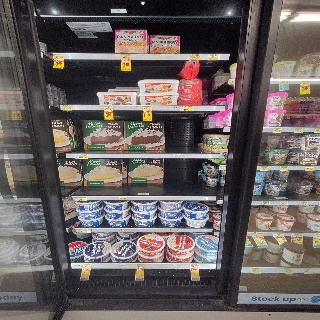All PRICE TAGS: (179, 106, 193, 111), (53, 53, 64, 59), (207, 54, 220, 59), (73, 196, 86, 201), (120, 54, 131, 59), (75, 154, 88, 158), (191, 54, 201, 59), (142, 105, 152, 110), (272, 233, 284, 237), (273, 128, 282, 133), (303, 269, 312, 274), (283, 268, 292, 273), (251, 267, 260, 272), (104, 105, 113, 110), (252, 233, 263, 237), (292, 233, 303, 237), (77, 228, 91, 231), (300, 81, 310, 85), (280, 166, 288, 171), (306, 166, 314, 171), (62, 106, 72, 110), (294, 128, 303, 132), (136, 264, 145, 268), (190, 264, 199, 268), (260, 166, 268, 170), (262, 201, 270, 205), (83, 264, 91, 268), (300, 201, 307, 205), (281, 201, 288, 205), (74, 264, 81, 268), (313, 234, 319, 238), (279, 82, 289, 84), (315, 128, 320, 132)
